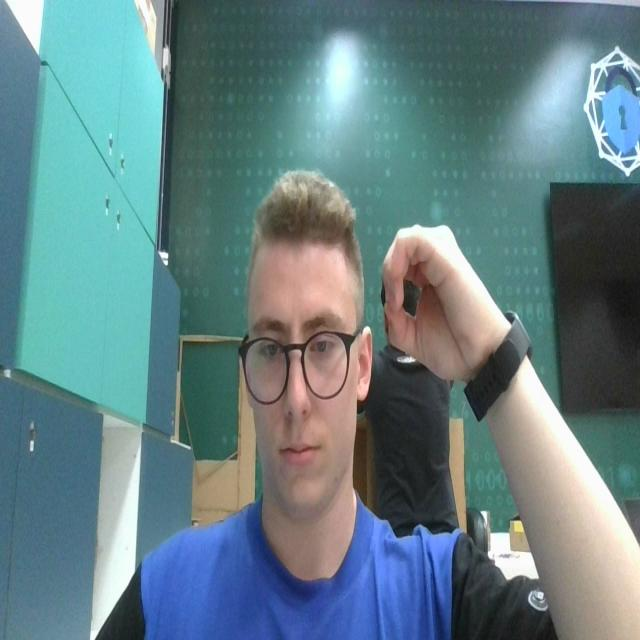O: (378, 217, 491, 380)
